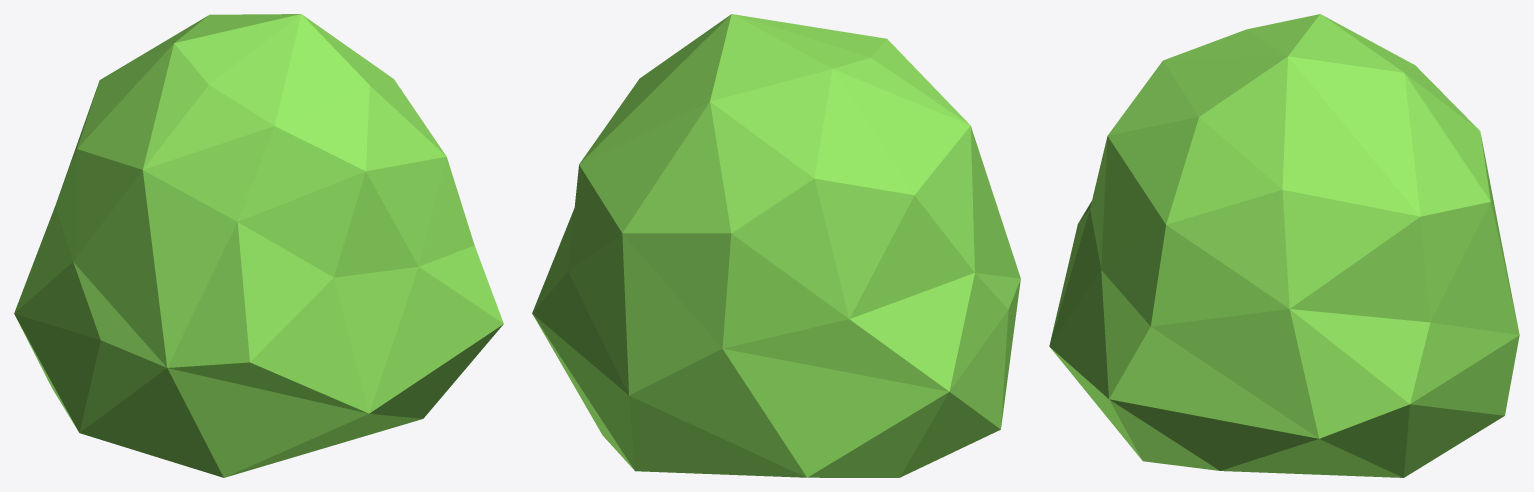
Rendered from BushMiddle.fbx.
3 renders of one model, left to right at view 1: azimuth 30°, elevation 25°; view 2: azimuth 150°, elevation 25°; view 3: azimuth 270°, elevation 25°, orthographic. The views are drawn at different scales.
Visible parts, largest first — view 1: BushMiddle; view 2: BushMiddle; view 3: BushMiddle.
Boxes of the visible parts, x1,y1,x2,y2 form: BushMiddle: (14, 14, 503, 477); BushMiddle: (532, 14, 1020, 477); BushMiddle: (1049, 14, 1519, 477).
Bounding box in the file's own units: 316 × 288 × 308.
